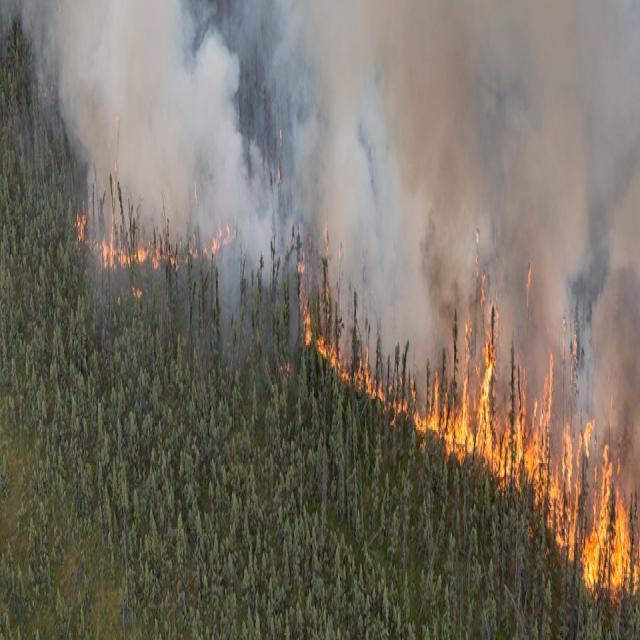Fire: (551, 411, 633, 600), (494, 335, 556, 504), (71, 210, 152, 284), (358, 342, 413, 432), (306, 294, 350, 384), (431, 370, 481, 446), (467, 349, 500, 449), (158, 231, 228, 273)
Smoke: (310, 0, 640, 203), (45, 9, 227, 176)
